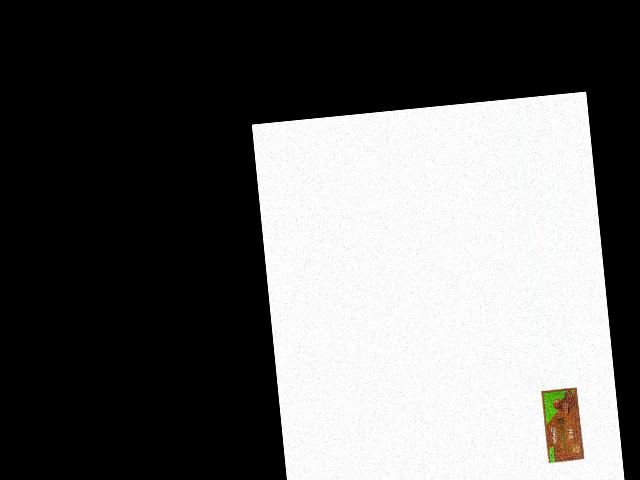chocolate: (539, 385, 587, 466)
